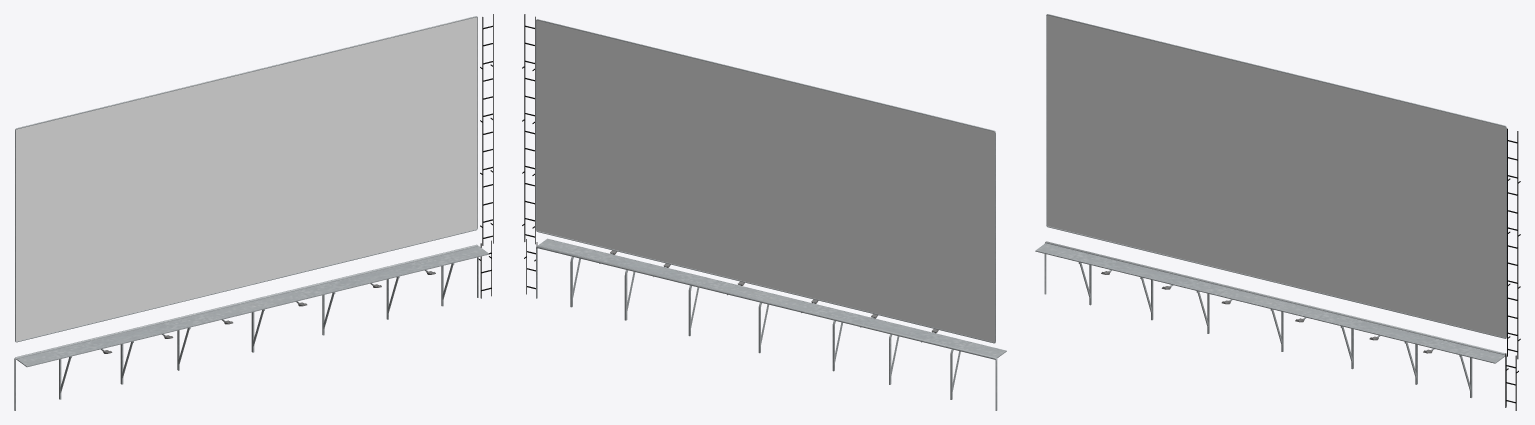
The model's file is Classic_City_Skraper_Billboard.fbx.
3 renders of one model, left to right at view 1: azimuth 30°, elevation 25°; view 2: azimuth 150°, elevation 25°; view 3: azimuth 330°, elevation 25°, orthographic.
Visible parts, largest first — view 1: Classic_City_Skraper_Billboard_Ad001, Classic_City_Skraper_Billboard_Frame, Classic_City_Skraper_Billboard_Ladder; view 2: Classic_City_Skraper_Billboard_AdBacker, Classic_City_Skraper_Billboard_Frame, Classic_City_Skraper_Billboard_Ladder; view 3: Classic_City_Skraper_Billboard_Ad001, Classic_City_Skraper_Billboard_Frame, Classic_City_Skraper_Billboard_Ladder.
Boxes of the visible parts, bbox=[...] form: Classic_City_Skraper_Billboard_Ad001: bbox=[16, 17, 477, 341]; Classic_City_Skraper_Billboard_Frame: bbox=[14, 16, 489, 410]; Classic_City_Skraper_Billboard_Ladder: bbox=[478, 14, 493, 298]; Classic_City_Skraper_Billboard_AdBacker: bbox=[536, 20, 994, 342]; Classic_City_Skraper_Billboard_Frame: bbox=[536, 19, 1006, 410]; Classic_City_Skraper_Billboard_Ladder: bbox=[522, 14, 537, 294]; Classic_City_Skraper_Billboard_Ad001: bbox=[1047, 15, 1505, 337]; Classic_City_Skraper_Billboard_Frame: bbox=[1035, 14, 1506, 406]; Classic_City_Skraper_Billboard_Ladder: bbox=[1505, 128, 1520, 410].
Bounding box in the file's own units: 96.2 × 54.22 × 6.71.
6 materials, 2 textured.
